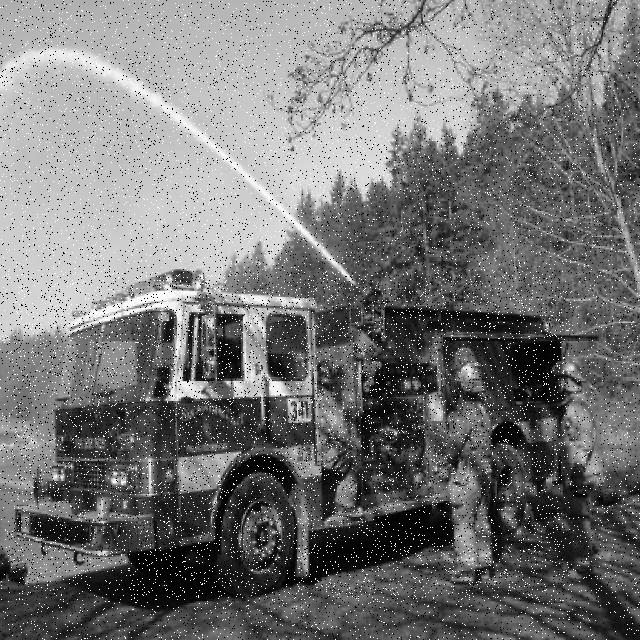Fire Truck: (14, 272, 565, 600)
